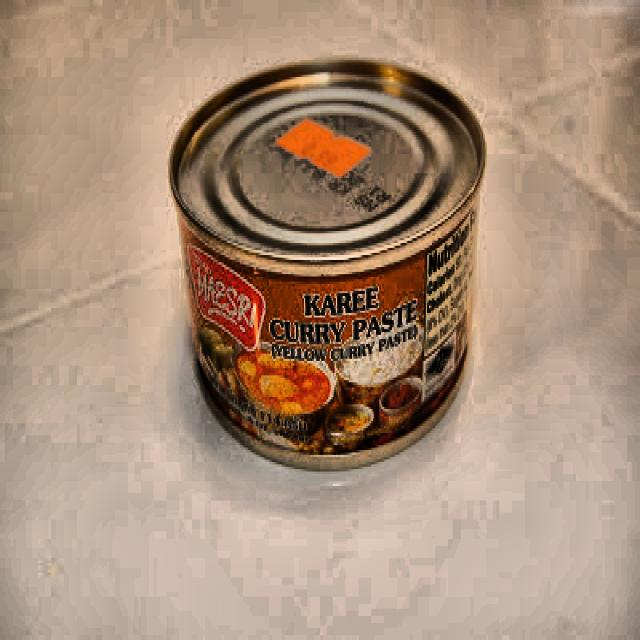Cans: (151, 49, 510, 484)
